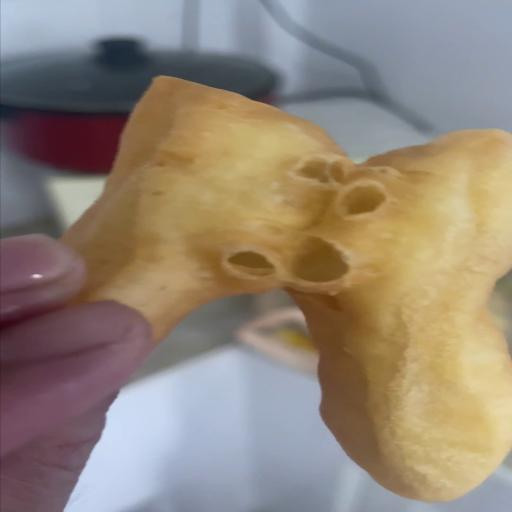street_golden_defect: (54, 102, 511, 503)
